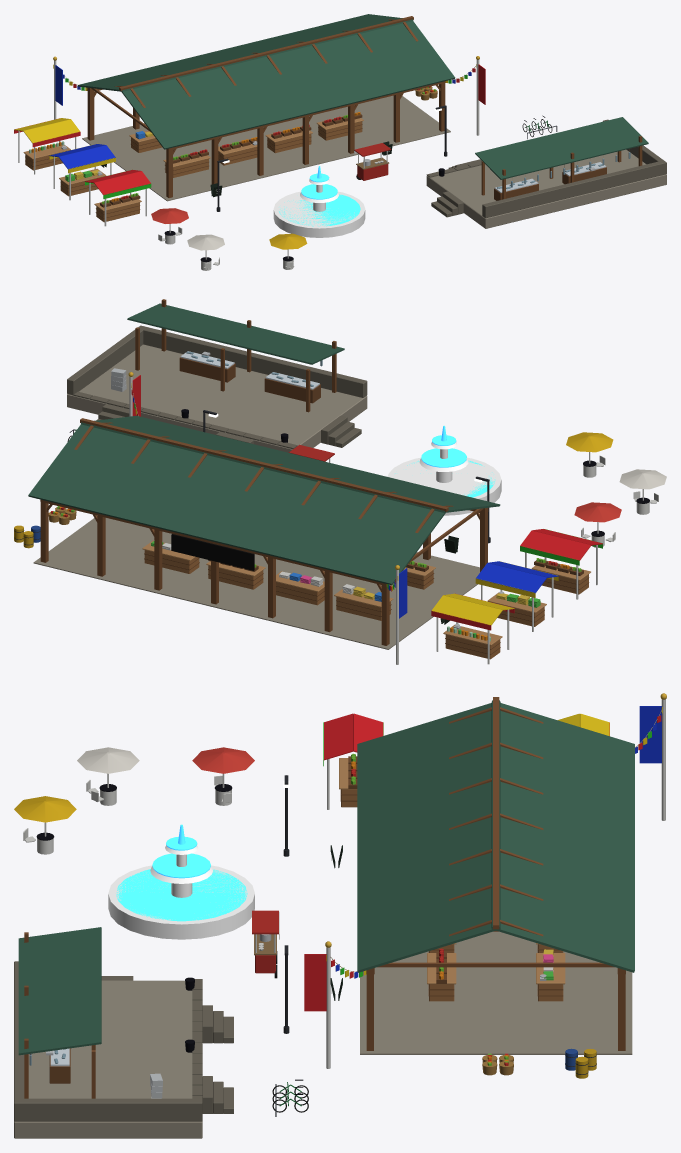
The model's file is tf-market-p4.glb.
The picture shows the model from 3 angles, top to bottom: view 1: azimuth 30°, elevation 25°; view 2: azimuth 150°, elevation 25°; view 3: azimuth 270°, elevation 25°; orthographic projection. The views are drawn at different scales.
Visible parts, largest first — view 1: tf-market-p4; view 2: tf-market-p4; view 3: tf-market-p4.
Part boxes in pixels (x1=…): tf-market-p4: x1=14, y1=14, x2=666, y2=270; tf-market-p4: x1=14, y1=299, x2=666, y2=664; tf-market-p4: x1=14, y1=693, x2=666, y2=1138.
Bounding box in the file's own units: 41.1 × 7.01 × 31.15.
